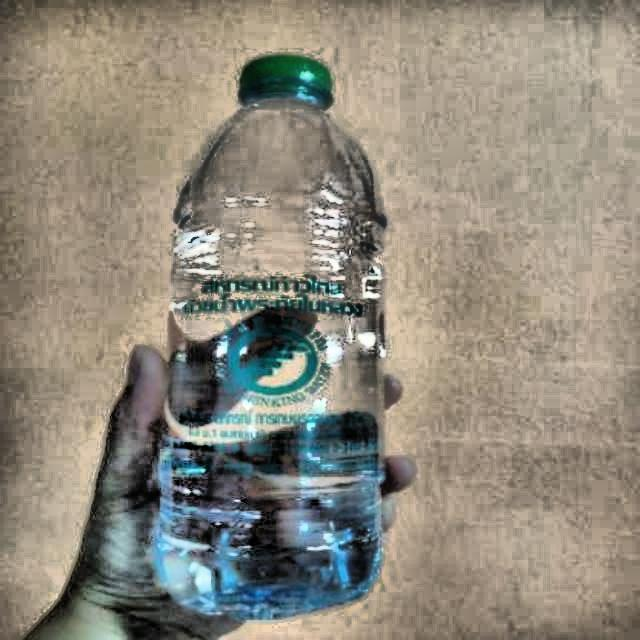Bottles: (150, 44, 395, 621)
